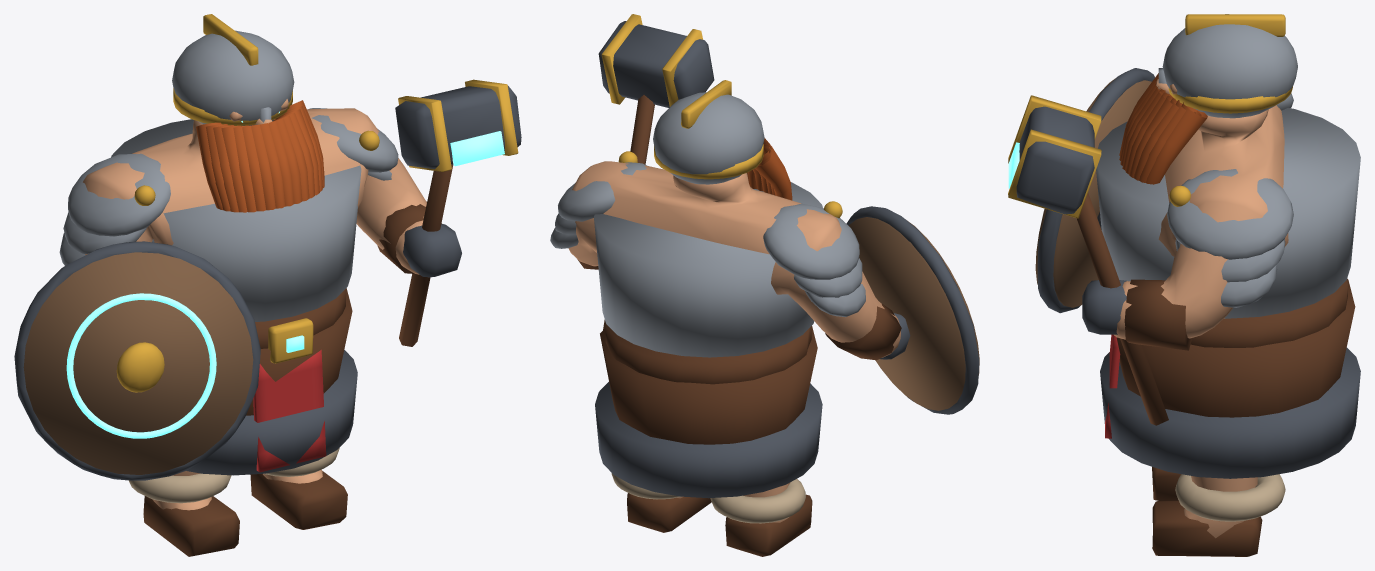
File: nain.glb
3 renders of one model, left to right at view 1: azimuth 30°, elevation 25°; view 2: azimuth 150°, elevation 25°; view 3: azimuth 270°, elevation 25°, orthographic. The views are drawn at different scales.
Parts seen in each view (by area): view 1: bark2, steel, iron, leather, skin, copper, gold, ether, team, fur_light; view 2: steel, leather, iron, skin, bark2, gold, fur_light, copper; view 3: steel, leather, iron, skin, gold, copper, bark2, fur_light, team.
Part boxes in pixels (left/top/right/bottom): bark2: left=23, top=252, right=253, bottom=474; steel: left=59, top=30, right=398, bottom=321; iron: left=14, top=86, right=521, bottom=480; leather: left=143, top=164, right=453, bottom=556; skin: left=83, top=99, right=426, bottom=510; copper: left=196, top=100, right=324, bottom=212; gold: left=116, top=14, right=518, bottom=392; ether: left=66, top=111, right=504, bottom=438; team: left=253, top=349, right=326, bottom=472; fur_light: left=128, top=448, right=339, bottom=503; steel: left=550, top=92, right=865, bottom=357; leather: left=577, top=95, right=901, bottom=556; iron: left=595, top=21, right=979, bottom=498; skin: left=568, top=161, right=900, bottom=522; bark2: left=848, top=217, right=979, bottom=410; gold: left=601, top=14, right=842, bottom=218; fur_light: left=611, top=473, right=805, bottom=523; copper: left=747, top=138, right=792, bottom=200; steel: left=1096, top=14, right=1360, bottom=318; leather: left=1076, top=192, right=1355, bottom=556; iron: left=1016, top=68, right=1360, bottom=478; skin: left=1114, top=79, right=1288, bottom=538; gold: left=1008, top=14, right=1292, bottom=218; copper: left=1119, top=73, right=1207, bottom=184; bark2: left=1035, top=78, right=1151, bottom=307; fur_light: left=1175, top=474, right=1285, bottom=521; team: left=1105, top=334, right=1120, bottom=438.
Size of the model in its own units: 0.8074 by 0.8344 by 0.5273.
